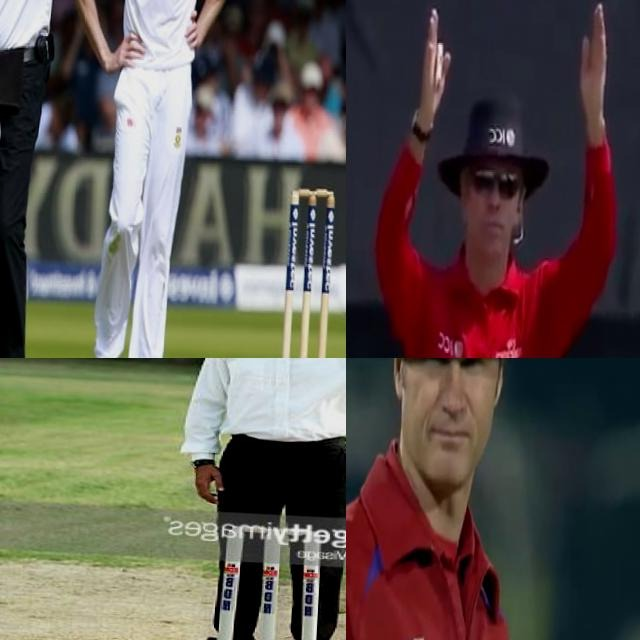No_Action: (346, 358, 573, 640)
No_Ball: (0, 0, 178, 358), (126, 358, 346, 640)
Six: (366, 0, 634, 358)
